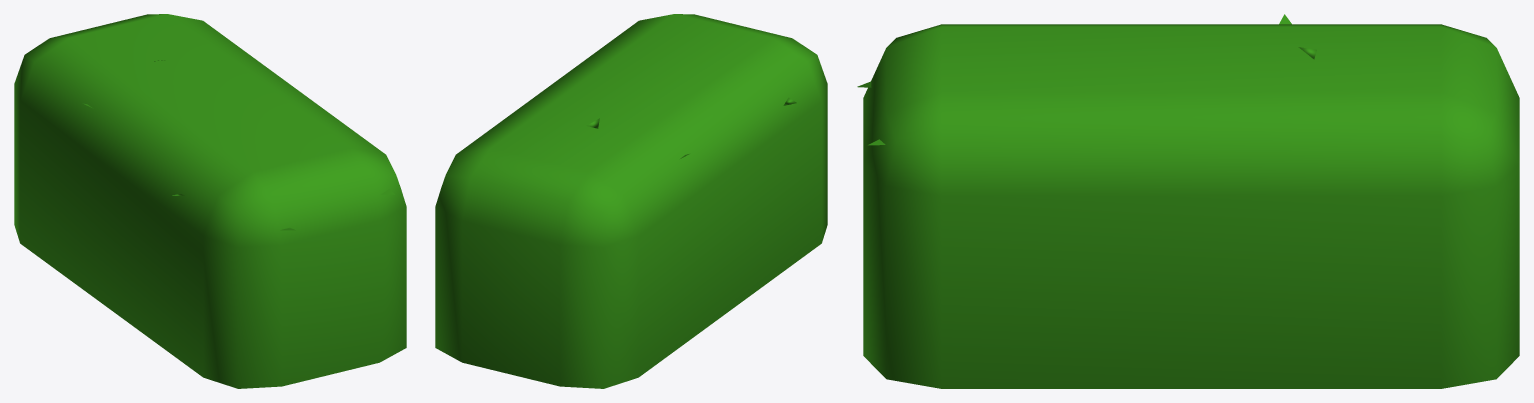
File: Bush2.fbx
3 views of the same model, side by side, from view 1: azimuth 30°, elevation 25°; view 2: azimuth 150°, elevation 25°; view 3: azimuth 270°, elevation 25° (orthographic). The views are drawn at different scales.
Parts seen in each view (by area): view 1: Circle.002; view 2: Circle.002; view 3: Circle.002.
Boxes of the visible parts, left/top/right/bottom form: Circle.002: left=14, top=14, right=406, bottom=388; Circle.002: left=435, top=14, right=827, bottom=388; Circle.002: left=857, top=14, right=1519, bottom=388.
Size of the model in its own units: 113 by 237 by 107.
